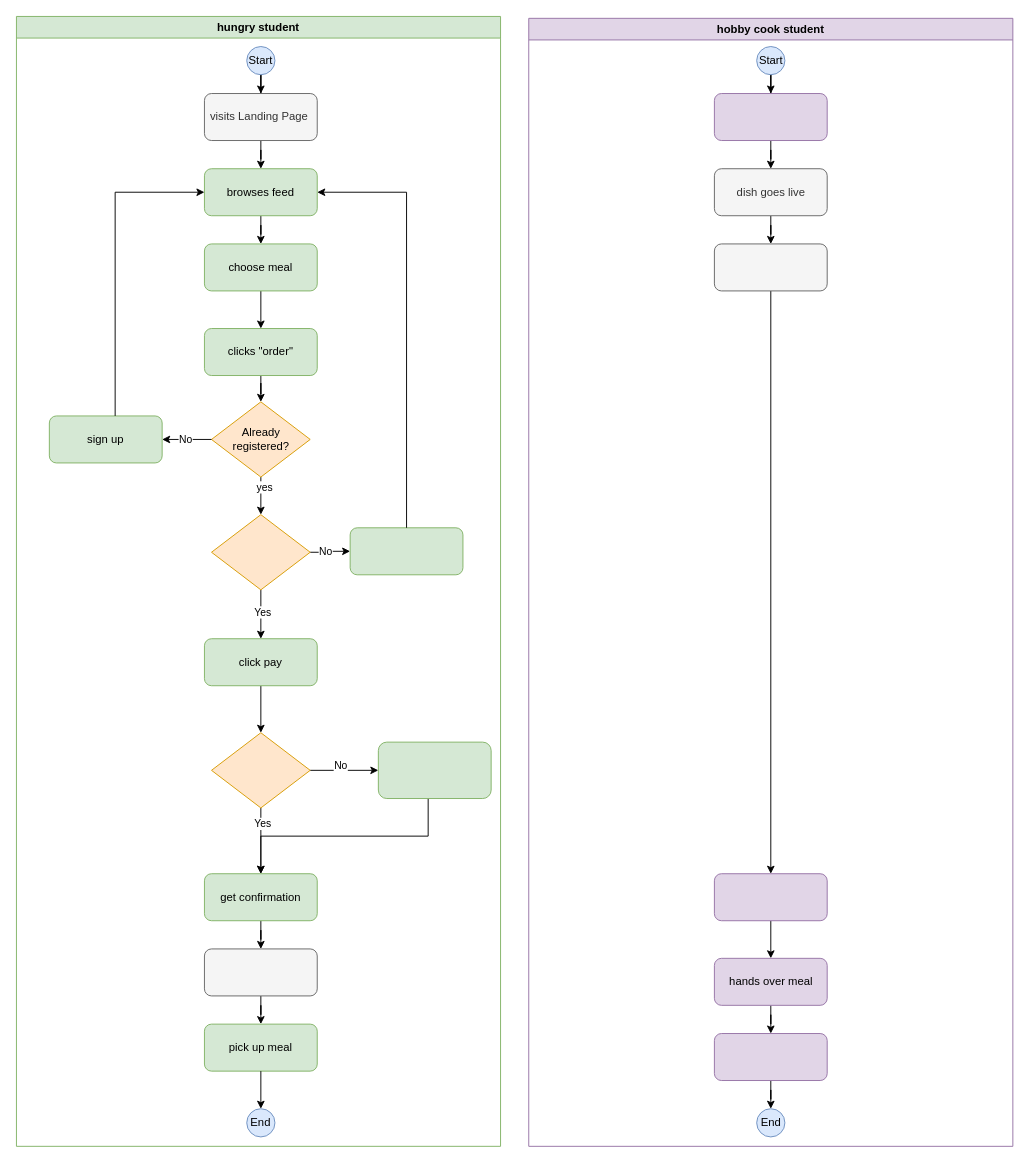
Some shapes in this 1029 by 1163 pixel diagram are drawn without their labels. Each missing label, with the centre of its shape:
Already logged?: (x=260, y=552)
earns money: (x=770, y=1057)
finishes cooking: (x=770, y=897)
log in: (x=406, y=551)
pay cash?: (x=260, y=770)
pay per paypal: (x=434, y=770)
posts dish: (x=770, y=117)
waits for orders: (x=770, y=267)
waits for pickup time: (x=260, y=972)
